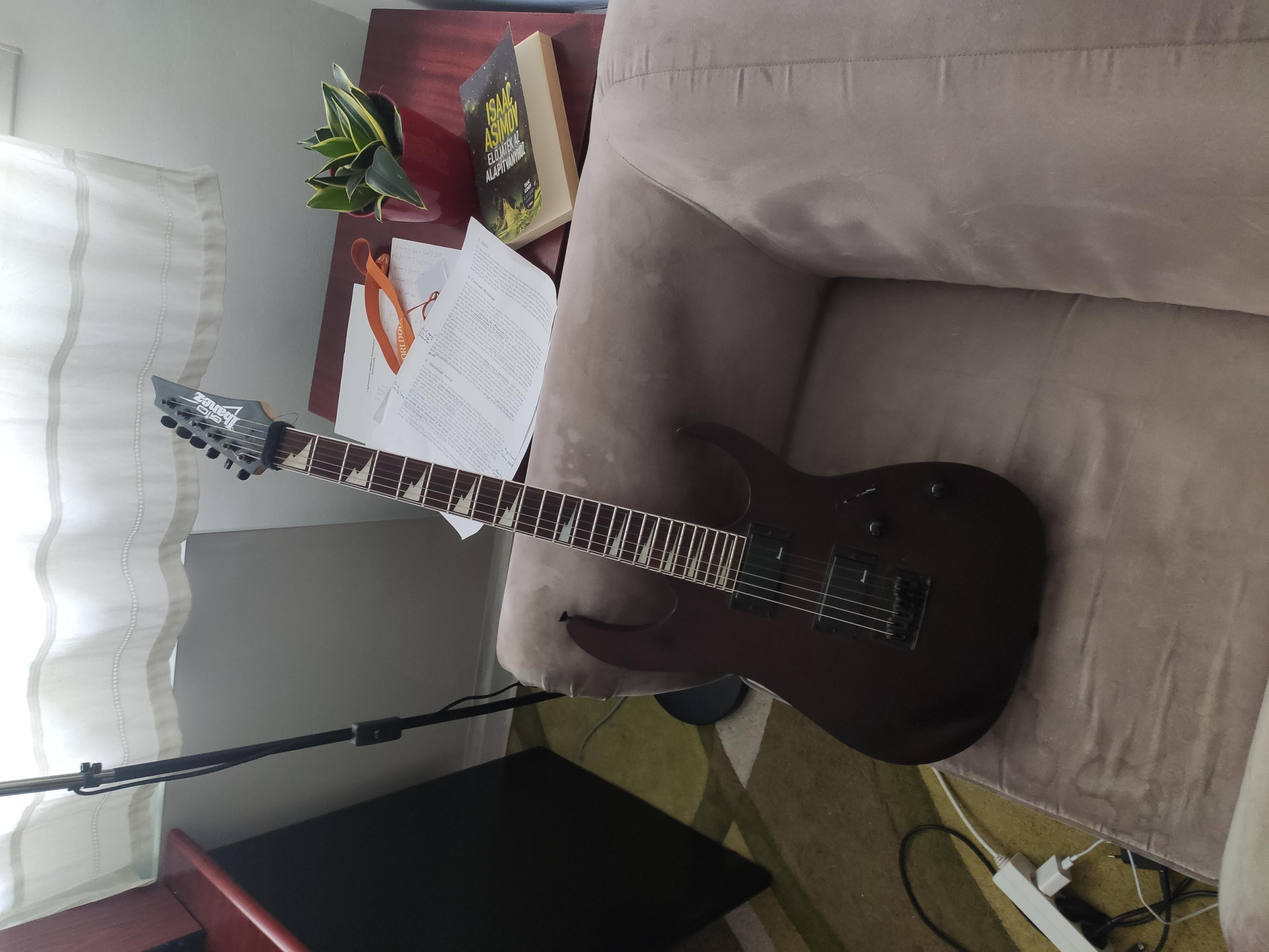acousticguitar: (236, 111, 776, 786)
